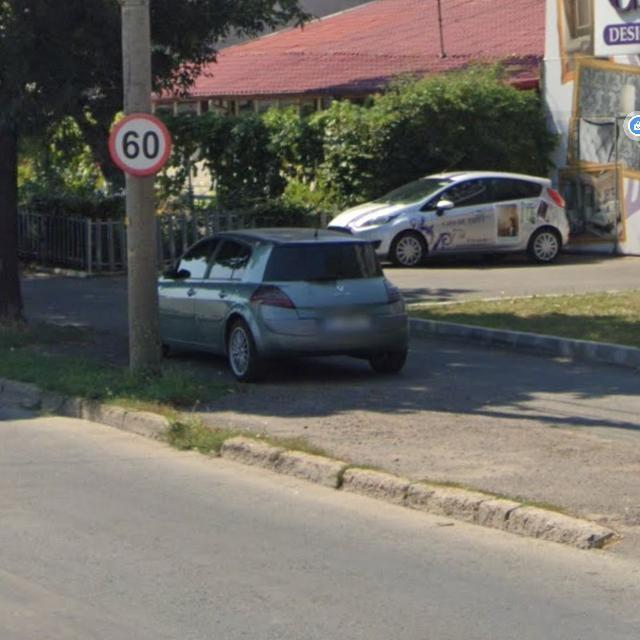forb_speed_over_60: (110, 114, 172, 176)
